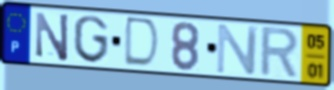8: (170, 20, 202, 72)
D: (121, 15, 162, 71)
G: (71, 14, 110, 65)
N: (214, 22, 261, 76), (34, 10, 71, 64)
R: (258, 25, 302, 82)
